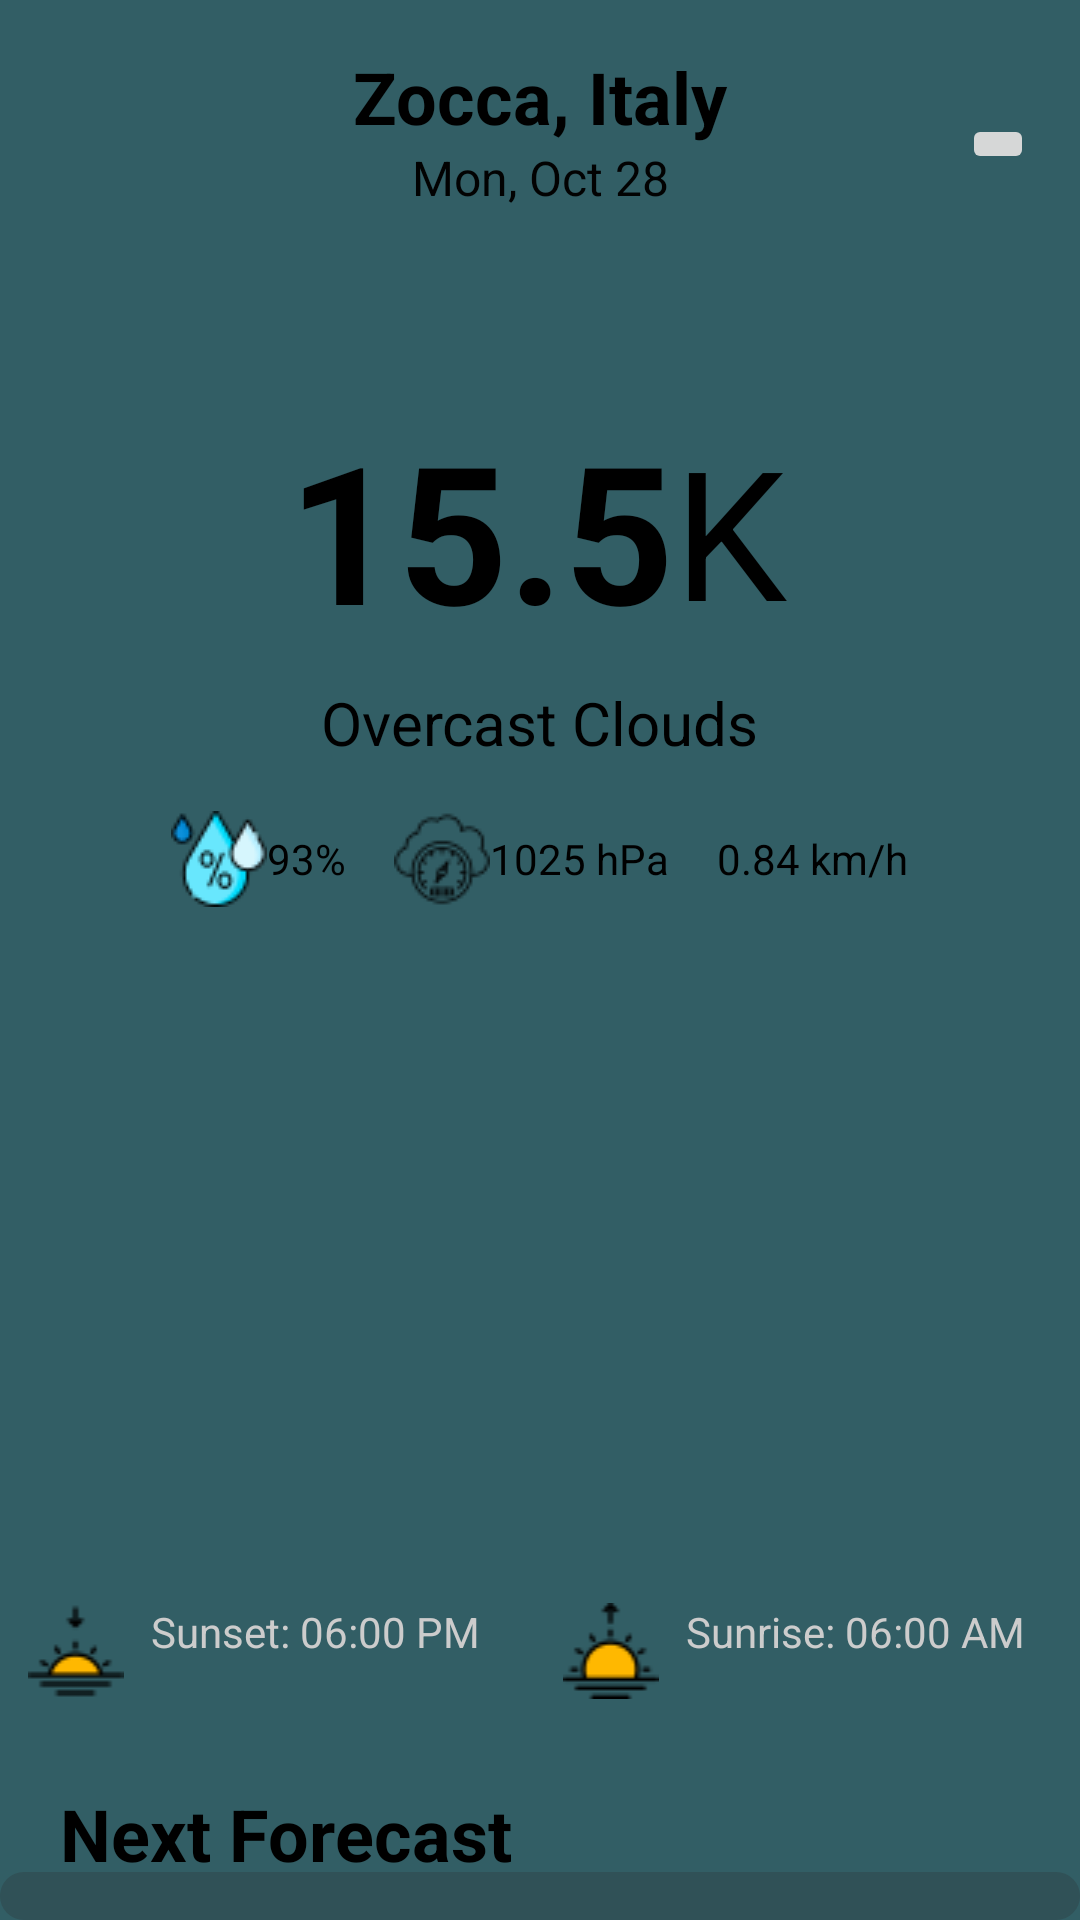

Screen size 1080px x 1920px. Icon name, then its box in pixels as (x1, y1, x2, y2):
humidity: (171, 811, 267, 907)
pressure: (394, 814, 490, 904)
